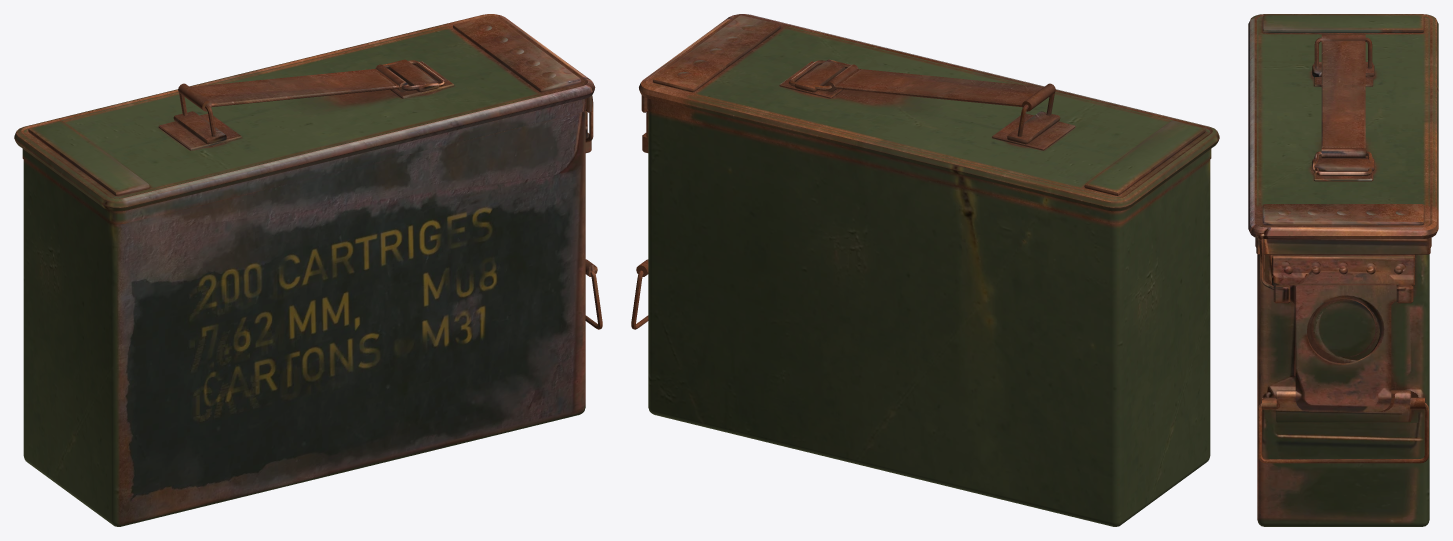
The model's file is ammo-box_final.glb.
3 views of the same model, side by side, from view 1: azimuth 30°, elevation 25°; view 2: azimuth 150°, elevation 25°; view 3: azimuth 270°, elevation 25° (orthographic). The views are drawn at different scales.
Parts seen in each view (by area): view 1: SM_AmmoBox_Body, SM_AmmoBox_Lid, SM_AmmoBox_HandleStrap, SM_AmmoBox_HandleBracket_L, SM_AmmoBox_HandleBracket_R; view 2: SM_AmmoBox_Body, SM_AmmoBox_Lid, SM_AmmoBox_HandleStrap, SM_AmmoBox_HandleBracket_L, SM_AmmoBox_HandleBracket_R; view 3: SM_AmmoBox_Lid, SM_AmmoBox_Body, SM_AmmoBox_LatchLever, SM_AmmoBox_HandleStrap, SM_AmmoBox_LatchHinge, SM_AmmoBox_LatchCatch, SM_AmmoBox_LatchBail, SM_AmmoBox_HandleBracket_R, SM_AmmoBox_HandleWire_R, SM_AmmoBox_HandleBracket_L, SM_AmmoBox_HandleWire_L.
Boxes of the visible parts, x1,y1,x2,y2 form: SM_AmmoBox_Body: [23, 110, 585, 526]; SM_AmmoBox_Lid: [14, 14, 595, 224]; SM_AmmoBox_HandleStrap: [178, 64, 408, 111]; SM_AmmoBox_HandleBracket_L: [158, 111, 241, 150]; SM_AmmoBox_HandleBracket_R: [387, 59, 454, 98]; SM_AmmoBox_Body: [648, 110, 1210, 526]; SM_AmmoBox_Lid: [639, 14, 1219, 224]; SM_AmmoBox_HandleStrap: [825, 64, 1055, 111]; SM_AmmoBox_HandleBracket_L: [992, 111, 1075, 150]; SM_AmmoBox_HandleBracket_R: [779, 59, 846, 98]; SM_AmmoBox_Lid: [1248, 14, 1438, 254]; SM_AmmoBox_Body: [1257, 254, 1429, 526]; SM_AmmoBox_LatchLever: [1290, 283, 1396, 411]; SM_AmmoBox_HandleStrap: [1321, 34, 1365, 158]; SM_AmmoBox_LatchHinge: [1272, 254, 1414, 303]; SM_AmmoBox_LatchCatch: [1262, 390, 1424, 422]; SM_AmmoBox_LatchBail: [1258, 402, 1428, 463]; SM_AmmoBox_HandleBracket_R: [1312, 156, 1374, 181]; SM_AmmoBox_HandleWire_R: [1314, 151, 1372, 175]; SM_AmmoBox_HandleBracket_L: [1312, 62, 1374, 86]; SM_AmmoBox_HandleWire_L: [1314, 37, 1372, 68].
Bounding box in the file's own units: 0.2862 × 0.2048 × 0.104.
2 materials, 2 textured.
